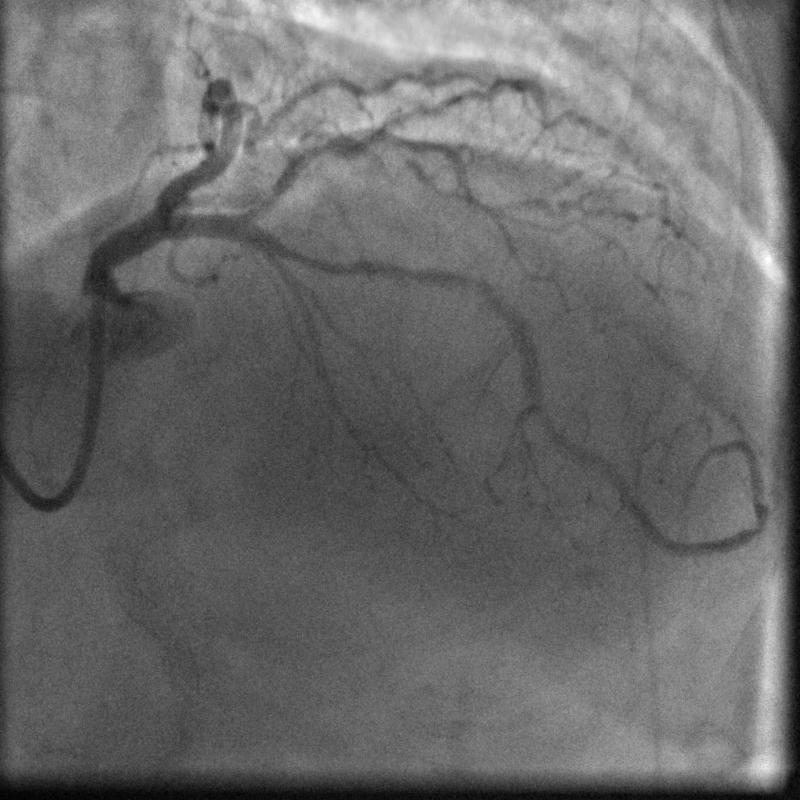Stenosis: (291, 237, 352, 277)
